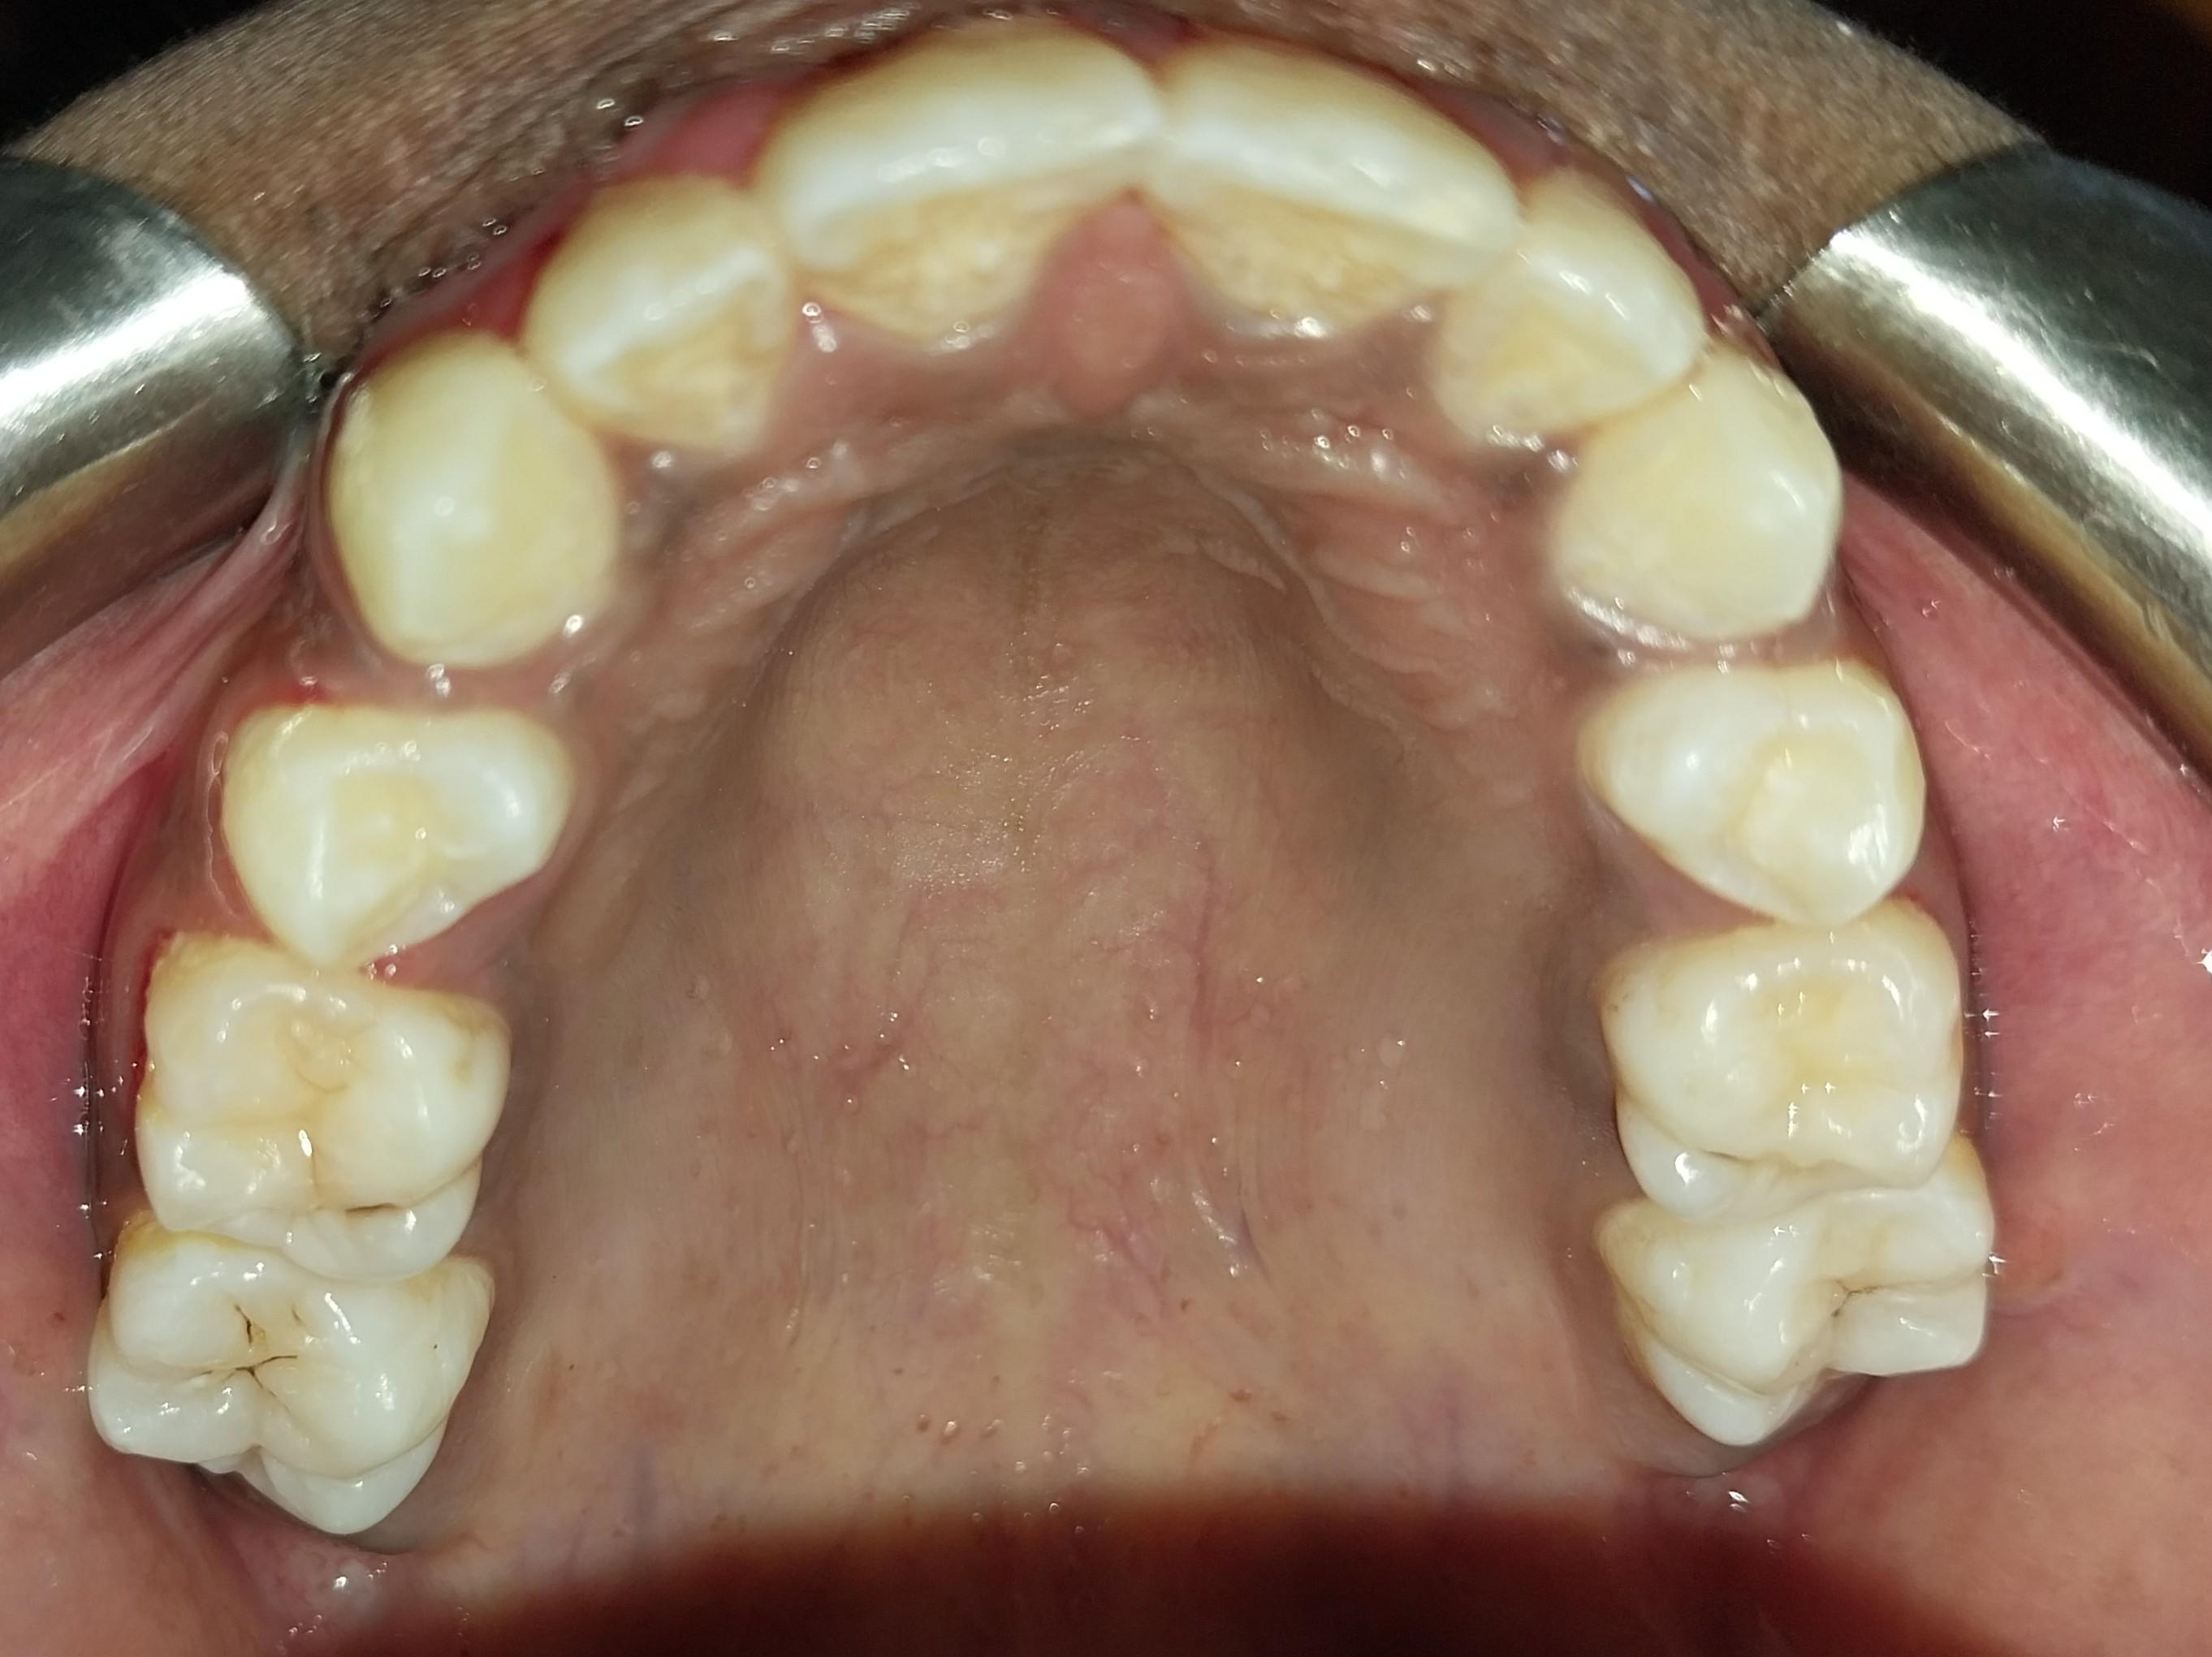D: (97, 1211, 491, 1538), (151, 940, 494, 1283), (1596, 1195, 1991, 1453)
